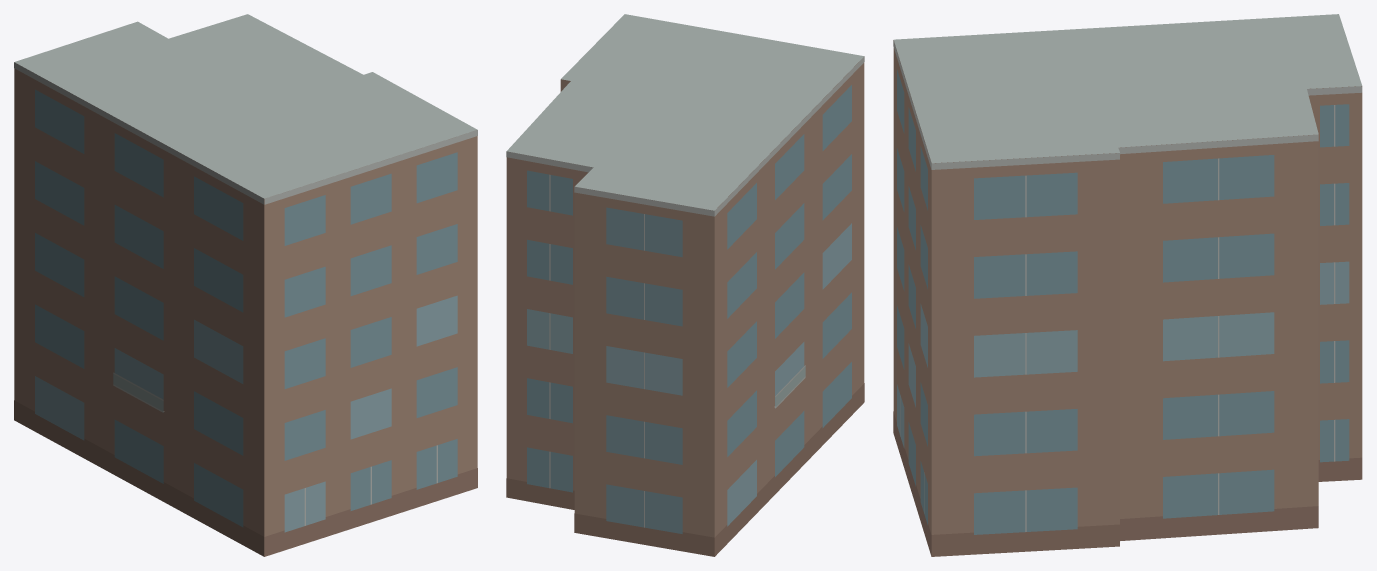
The model's file is survey-upis-32905620.glb.
The picture shows the model from 3 angles, left to right: view 1: azimuth 30°, elevation 25°; view 2: azimuth 150°, elevation 25°; view 3: azimuth 270°, elevation 25°; orthographic projection. The views are drawn at different scales.
Visible parts, largest first — view 1: survey-upis-32905620.tmp; view 2: survey-upis-32905620.tmp; view 3: survey-upis-32905620.tmp.
Part boxes in pixels (<box>): survey-upis-32905620.tmp: <box>14,14,477,556</box>; survey-upis-32905620.tmp: <box>506,14,864,556</box>; survey-upis-32905620.tmp: <box>893,14,1362,556</box>.
Size of the model in its own units: 11.64 by 14.3 by 15.45.
